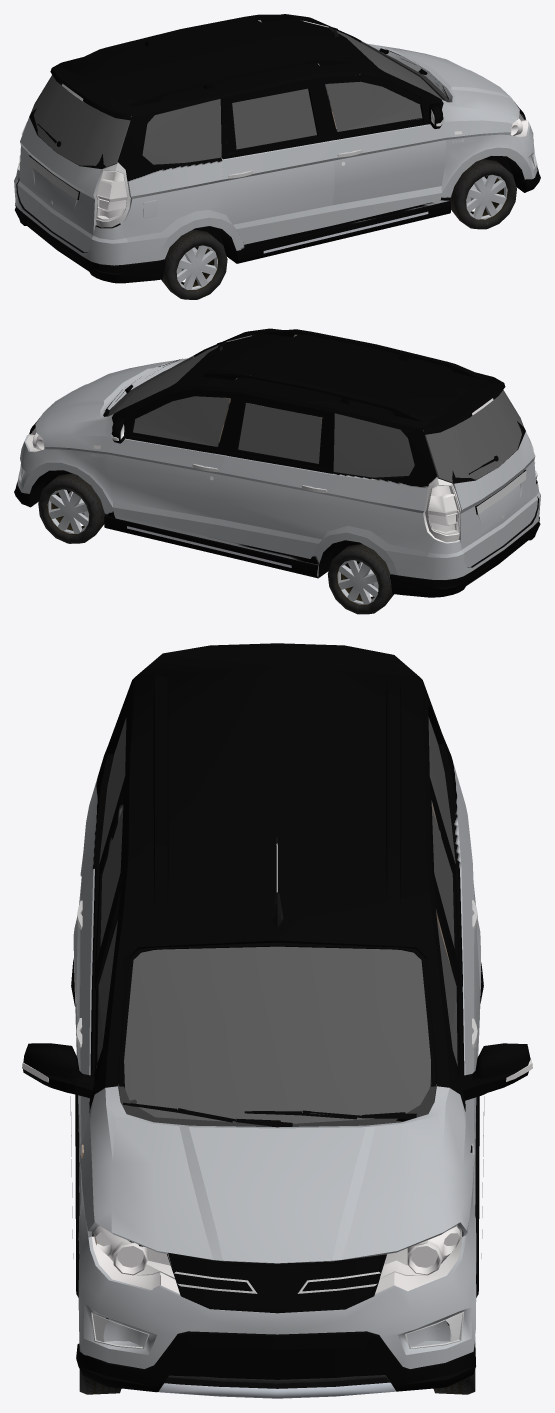
Rendered from BP_V_WLHG_B_lod_jihzxtd.fbx.
3 renders of one model, top to bottom at view 1: azimuth 30°, elevation 25°; view 2: azimuth 150°, elevation 25°; view 3: azimuth 270°, elevation 25°, orthographic. The views are drawn at different scales.
Parts seen in each view (by area): view 1: BP_V_WLHG_B_lod_jihzxtd; view 2: BP_V_WLHG_B_lod_jihzxtd; view 3: BP_V_WLHG_B_lod_jihzxtd.
Boxes of the visible parts, x1=… form: BP_V_WLHG_B_lod_jihzxtd: x1=14, y1=14, x2=540, y2=299; BP_V_WLHG_B_lod_jihzxtd: x1=14, y1=328, x2=540, y2=614; BP_V_WLHG_B_lod_jihzxtd: x1=22, y1=643, x2=532, y2=1398.
Size of the model in its own units: 4.48 by 1.93 by 2.15.
Materials: 3 (3 with a texture image).
